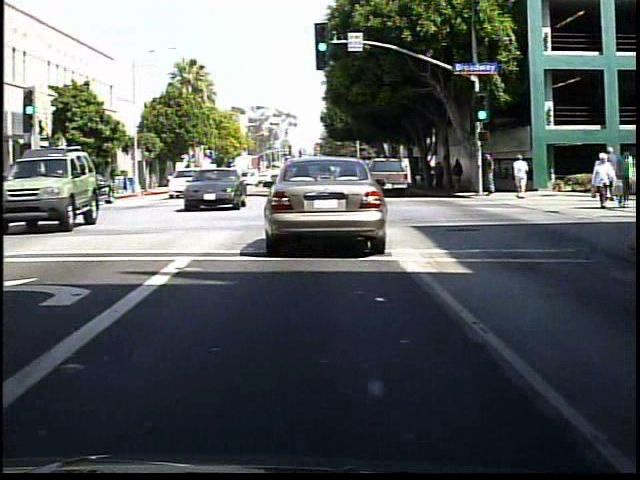person: (587, 152, 617, 210), (600, 144, 625, 206), (617, 146, 635, 211), (510, 151, 532, 202), (480, 149, 500, 204), (454, 158, 470, 193), (438, 159, 451, 193)
